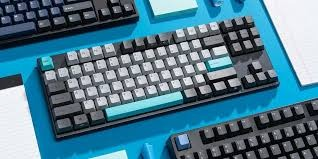keyboard: (6, 6, 297, 141)
